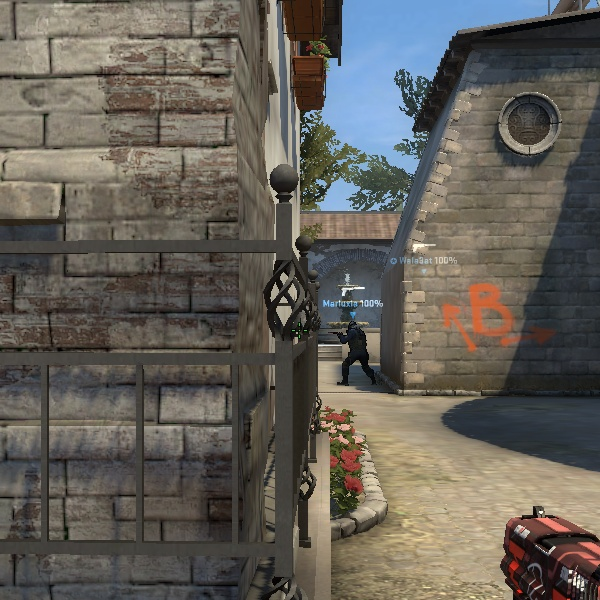ct_body: (333, 316, 373, 384)
